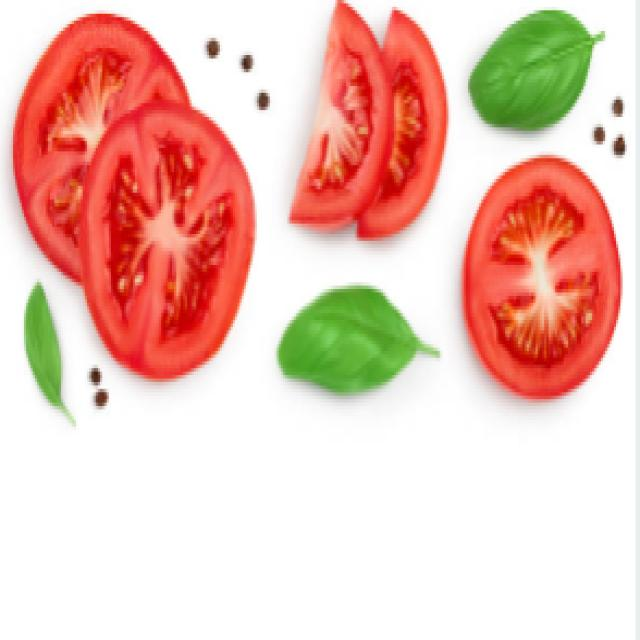Tomato: (13, 22, 256, 370), (464, 165, 625, 392), (299, 4, 448, 238)
